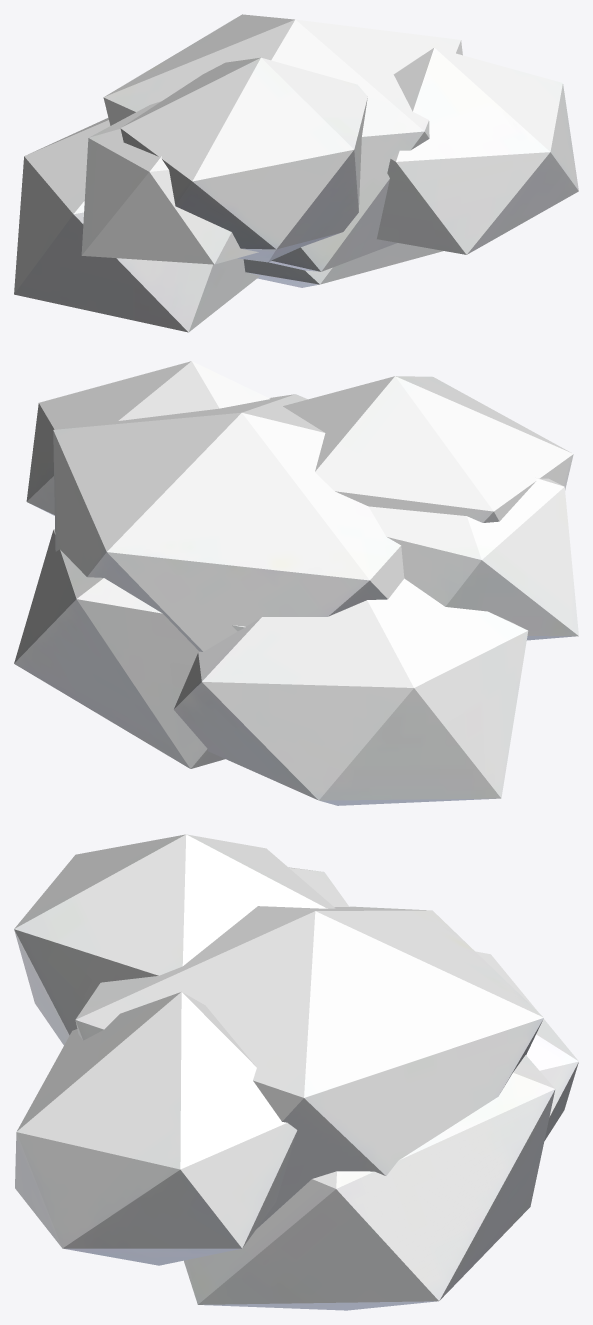
Rendered from cloud.glb.
3 views of the same model, one above another, from view 1: azimuth 30°, elevation 25°; view 2: azimuth 150°, elevation 25°; view 3: azimuth 270°, elevation 25° (orthographic). The views are drawn at different scales.
Visible parts, largest first — view 1: Cloud_Mesh; view 2: Cloud_Mesh; view 3: Cloud_Mesh.
Boxes of the visible parts, bbox=[...] form: Cloud_Mesh: bbox=[14, 14, 578, 332]; Cloud_Mesh: bbox=[14, 361, 578, 805]; Cloud_Mesh: bbox=[14, 834, 578, 1310].
Bounding box in the file's own units: 3.92 × 2.38 × 2.98.
1 material, 1 textured.
